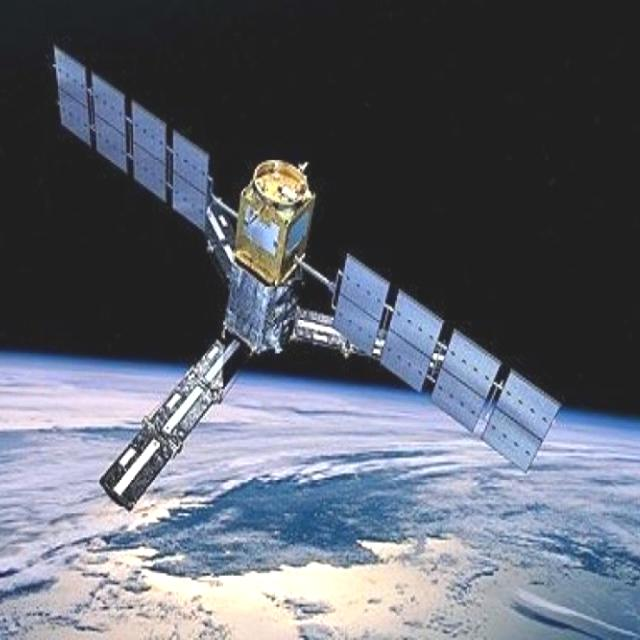medium_debris: (51, 35, 570, 512)
